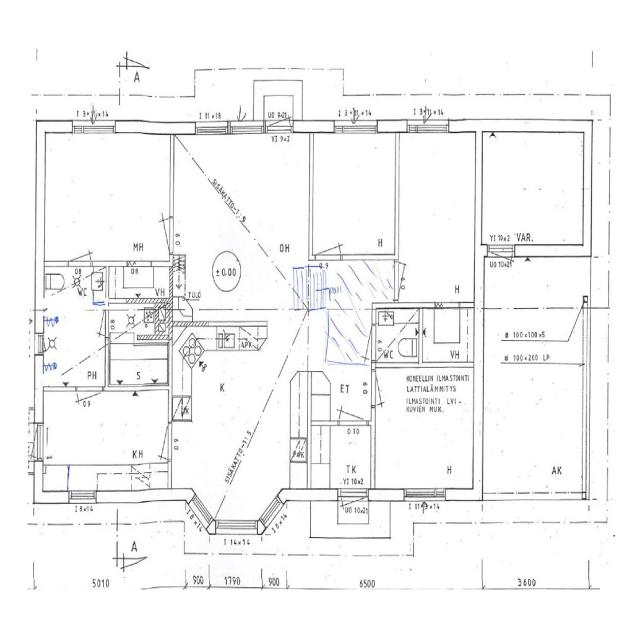door: (339, 382, 367, 426), (395, 261, 426, 299), (142, 423, 172, 460), (10, 424, 42, 458), (314, 219, 340, 260), (488, 244, 512, 288), (342, 488, 365, 533), (347, 326, 376, 361), (77, 385, 101, 425), (143, 218, 171, 252), (372, 371, 400, 405), (268, 88, 290, 131), (68, 230, 90, 266), (86, 311, 109, 338)
